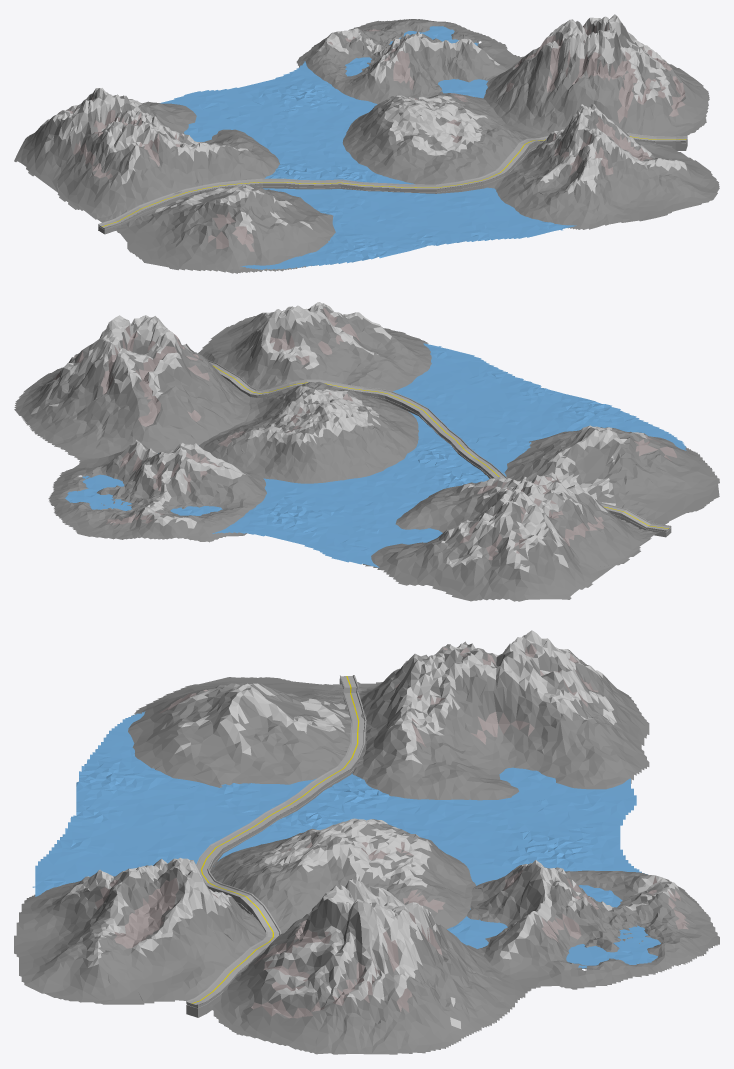
The model's file is island-low-poly.glb.
3 views of the same model, one above another, from view 1: azimuth 30°, elevation 25°; view 2: azimuth 150°, elevation 25°; view 3: azimuth 270°, elevation 25° (orthographic). The views are drawn at different scales.
Parts seen in each view (by area): view 1: Landscape.004_1, Landscape_0, Plane_2, Cube_3; view 2: Landscape.004_1, Landscape_0, Plane_2, Cube_3; view 3: Landscape.004_1, Landscape_0, Plane_2, Cube_3.
Part boxes in pixels (x1,y1,x2,y2): Landscape.004_1: [296, 14, 719, 229]; Landscape_0: [14, 88, 335, 273]; Plane_2: [160, 26, 576, 269]; Cube_3: [98, 132, 687, 234]; Landscape.004_1: [14, 302, 431, 542]; Landscape_0: [363, 425, 719, 601]; Plane_2: [65, 343, 686, 567]; Cube_3: [182, 343, 671, 537]; Landscape.004_1: [14, 818, 719, 1054]; Landscape_0: [128, 630, 649, 800]; Plane_2: [32, 711, 660, 968]; Cube_3: [186, 675, 366, 1017].
Size of the model in its own units: 5.53 by 0.764 by 4.35.
